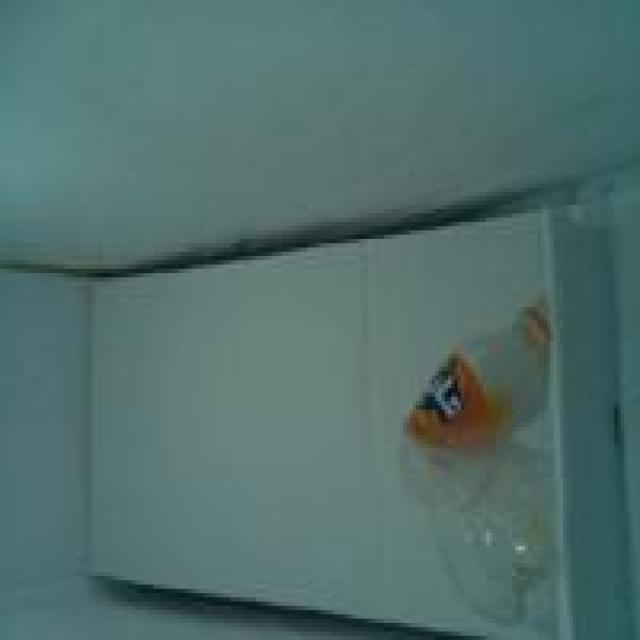bottle: (382, 283, 588, 640)
